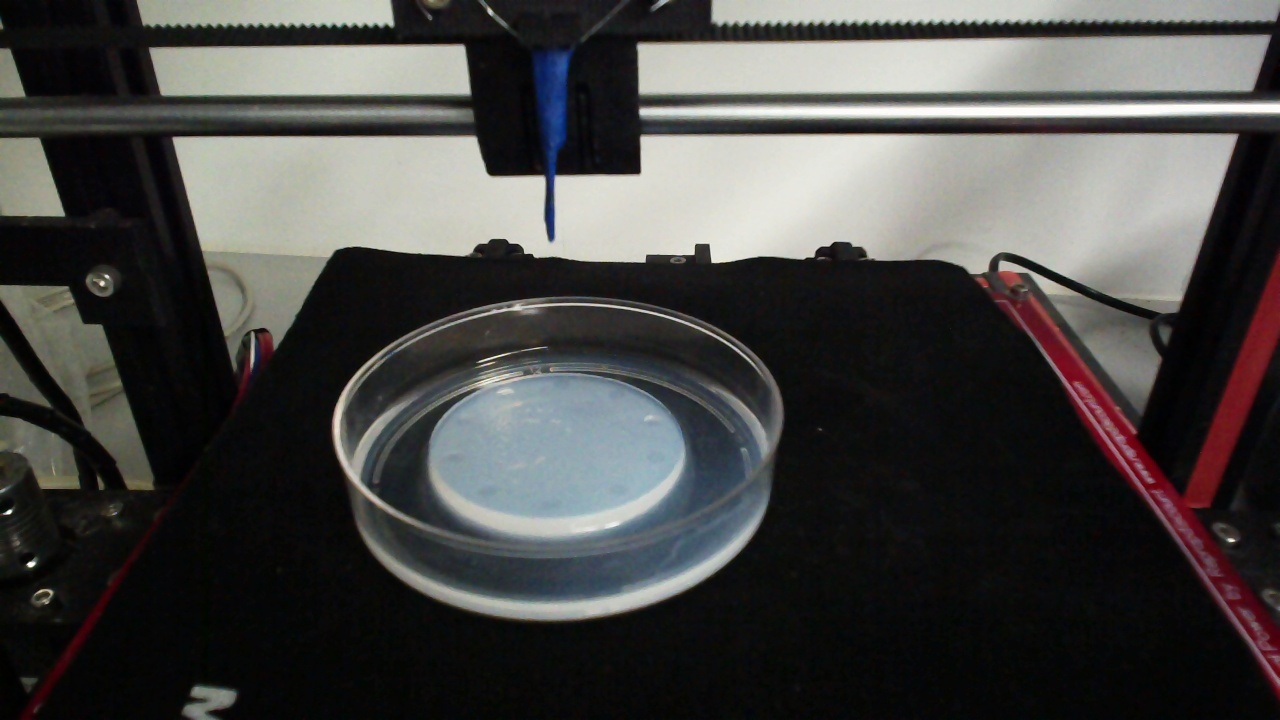groove: (645, 448, 669, 465), (536, 496, 561, 512), (606, 481, 629, 498), (476, 483, 497, 499), (551, 376, 572, 392), (494, 386, 516, 400), (454, 413, 474, 428), (440, 450, 461, 464), (607, 386, 626, 400), (640, 414, 662, 426)
needle: (537, 51, 568, 240)
